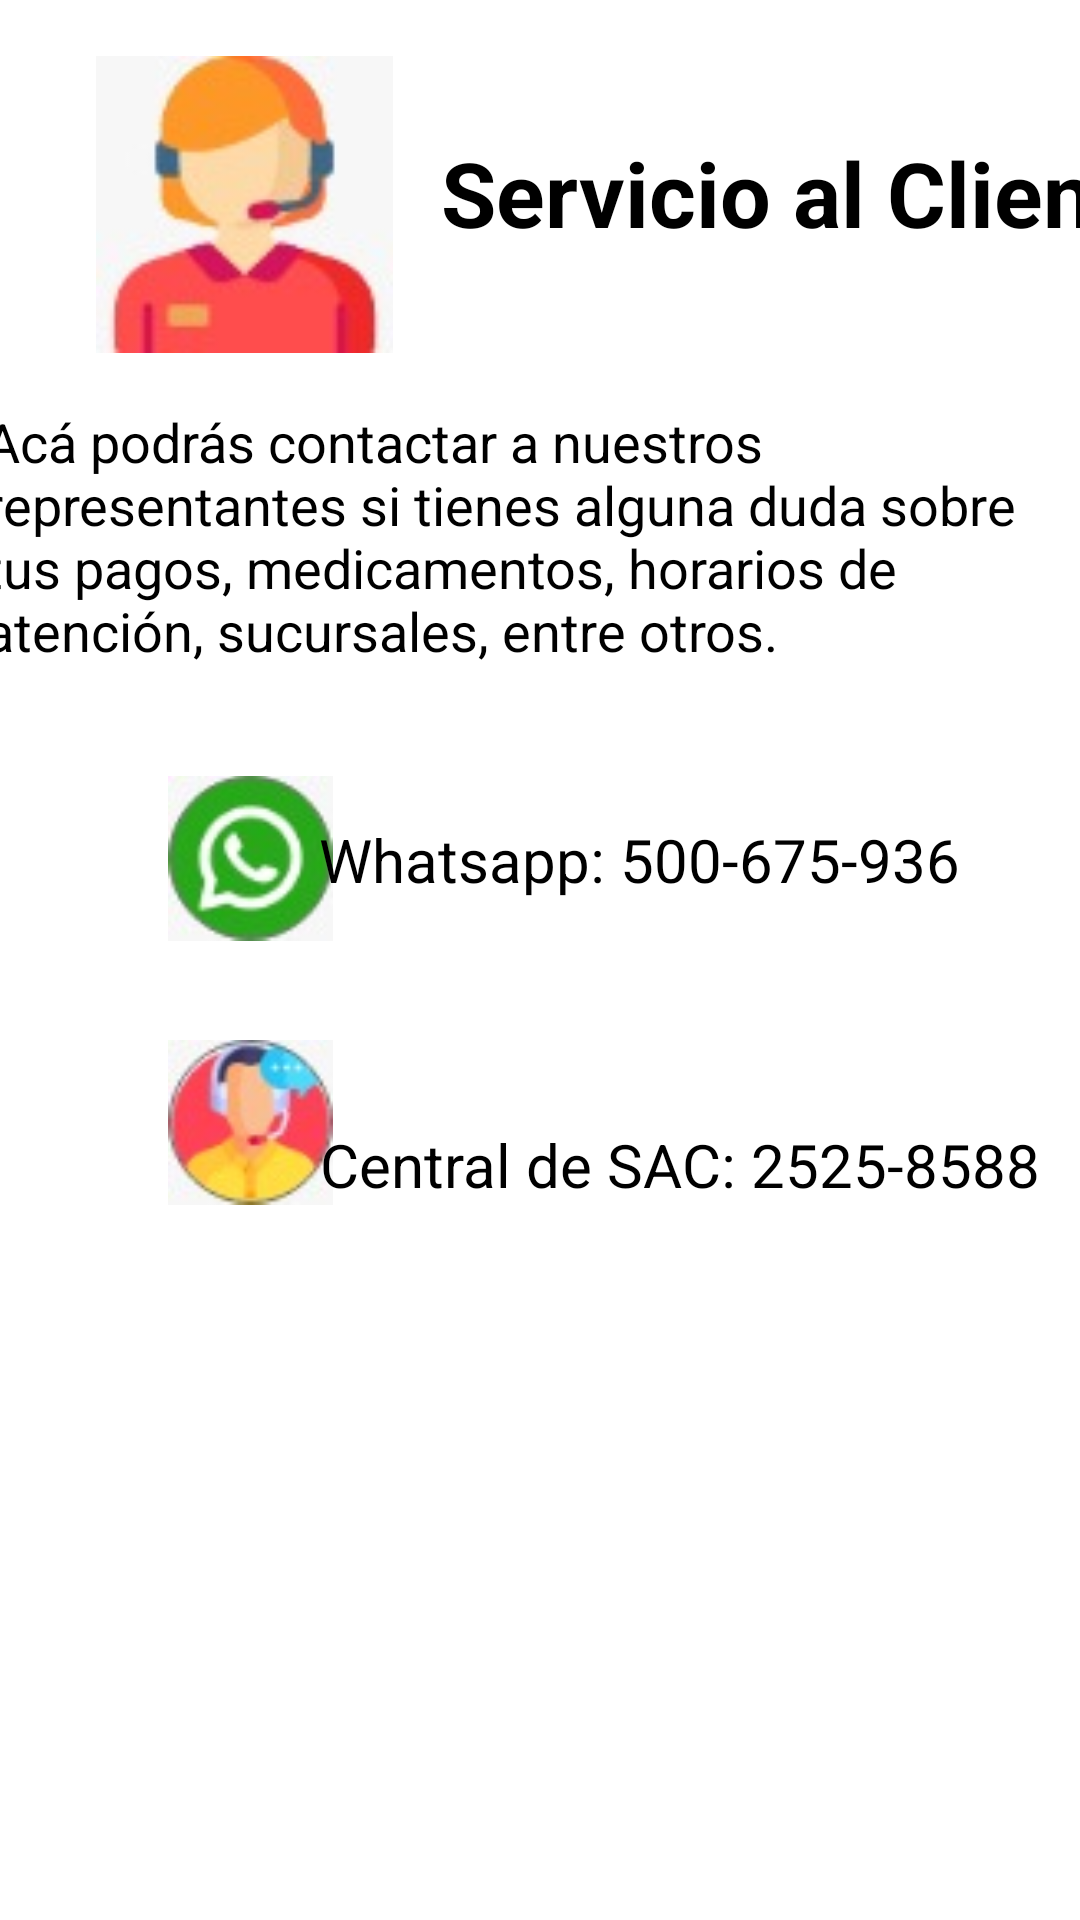

Where to tap for icons on this 1080 x 1920 app screen, as [x,y]:
centralsoporte: [250,1122]
serviciocliente: [245,204]
